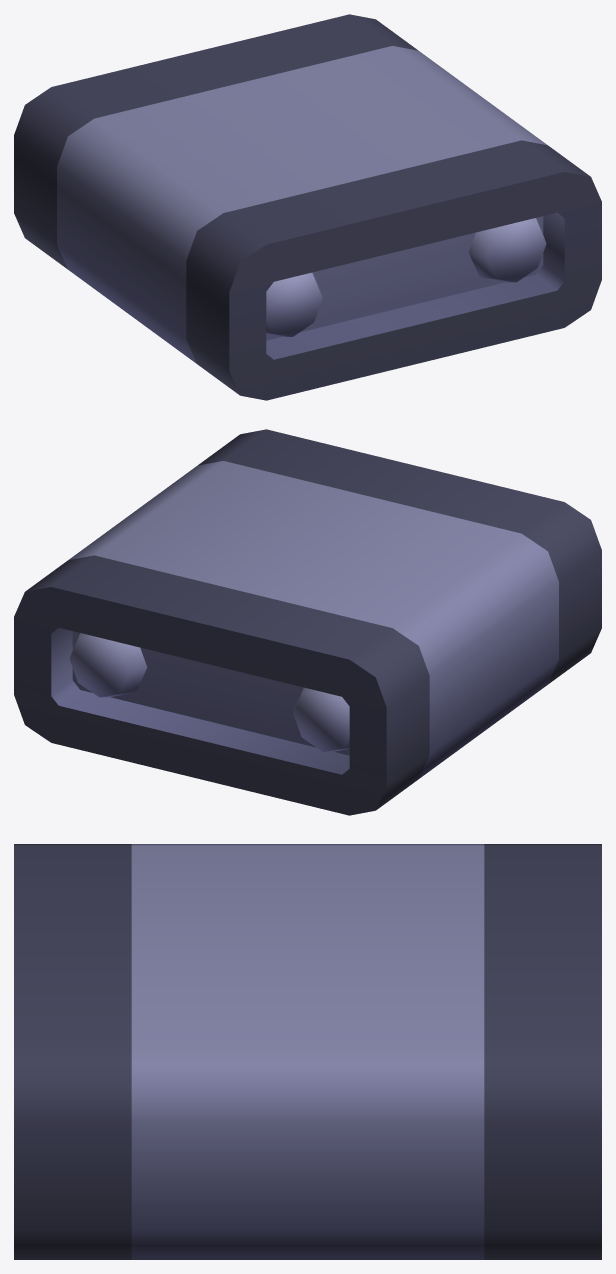
File: kenney-factory-conveyor-stripe.glb
The picture shows the model from 3 angles, top to bottom: view 1: azimuth 30°, elevation 25°; view 2: azimuth 150°, elevation 25°; view 3: azimuth 270°, elevation 25°; orthographic projection. The views are drawn at different scales.
Visible parts, largest first — view 1: conveyor-stripe; view 2: conveyor-stripe; view 3: conveyor-stripe.
Part boxes in pixels (box(x1,y1,x2,y2)): conveyor-stripe: box(14, 14, 601, 400); conveyor-stripe: box(14, 429, 601, 815); conveyor-stripe: box(14, 844, 601, 1259).
Bounding box in the file's own units: 1 × 0.3999 × 1.
Materials: 1 (1 with a texture image).
